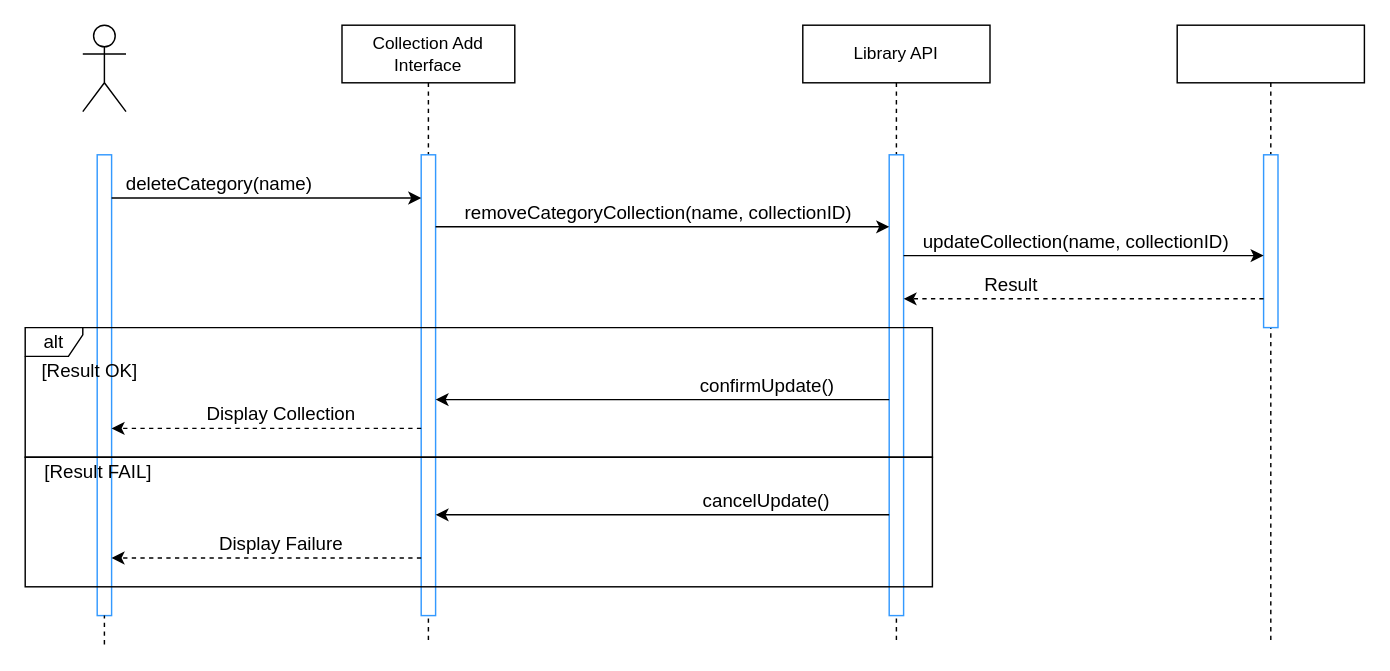
This 1390x671 diagram has some shape labels left out. The centre of each missing label's shape, as x and y in pixels:
"Repository" goes at point (1270, 334).
"Student" goes at point (103, 68).
